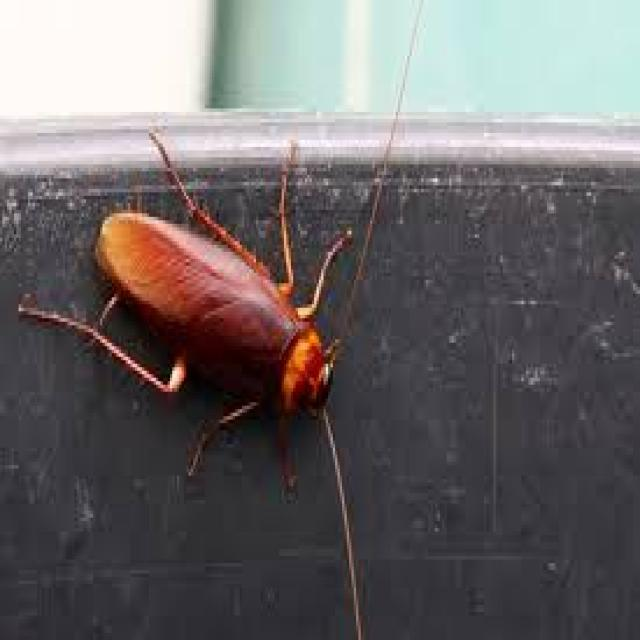Cockroach: (33, 119, 442, 507)
